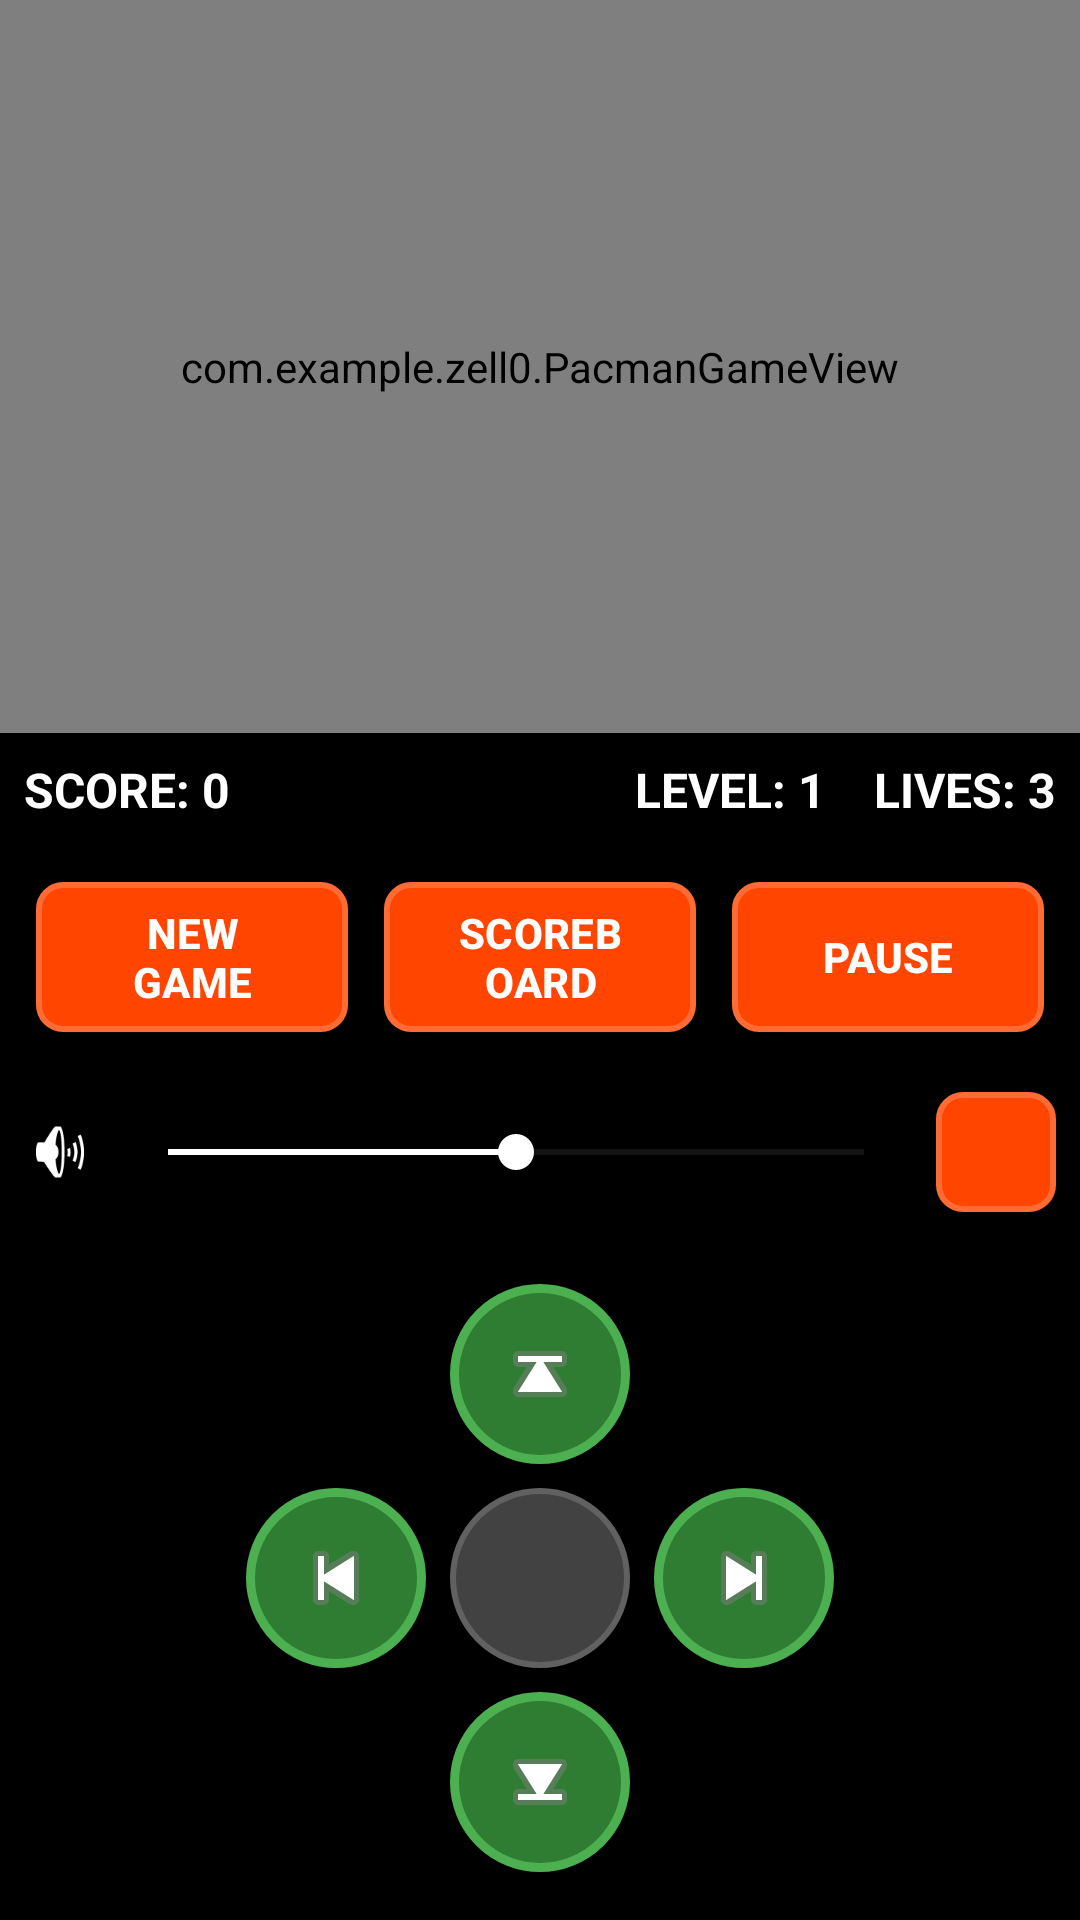

Icons on this 1080px×1920px Android screen, each with the point to tap as (x=x, y=y):
Left: (x=336, y=1578)
lock silent mode off: (x=60, y=1152)
Right: (x=744, y=1578)
